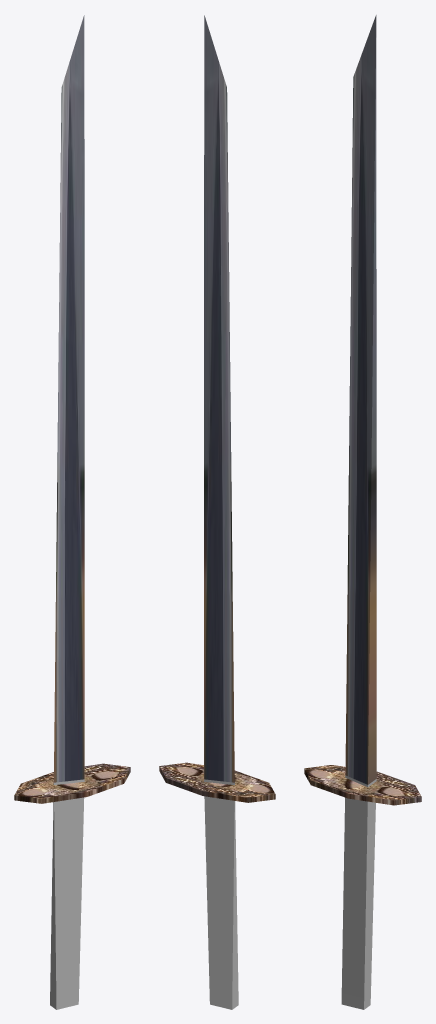
File: doudanuki.fbx
3 views of the same model, side by side, from view 1: azimuth 30°, elevation 25°; view 2: azimuth 150°, elevation 25°; view 3: azimuth 330°, elevation 25° (orthographic).
Parts seen in each view (by area): view 1: weapon_doudanuki; view 2: weapon_doudanuki; view 3: weapon_doudanuki.
Part boxes in pixels (<box>): weapon_doudanuki: <box>14,15,130,1009</box>; weapon_doudanuki: <box>159,15,275,1009</box>; weapon_doudanuki: <box>304,15,421,1009</box>.
Bounding box in the file's own units: 22.51 × 182 × 9.88.
